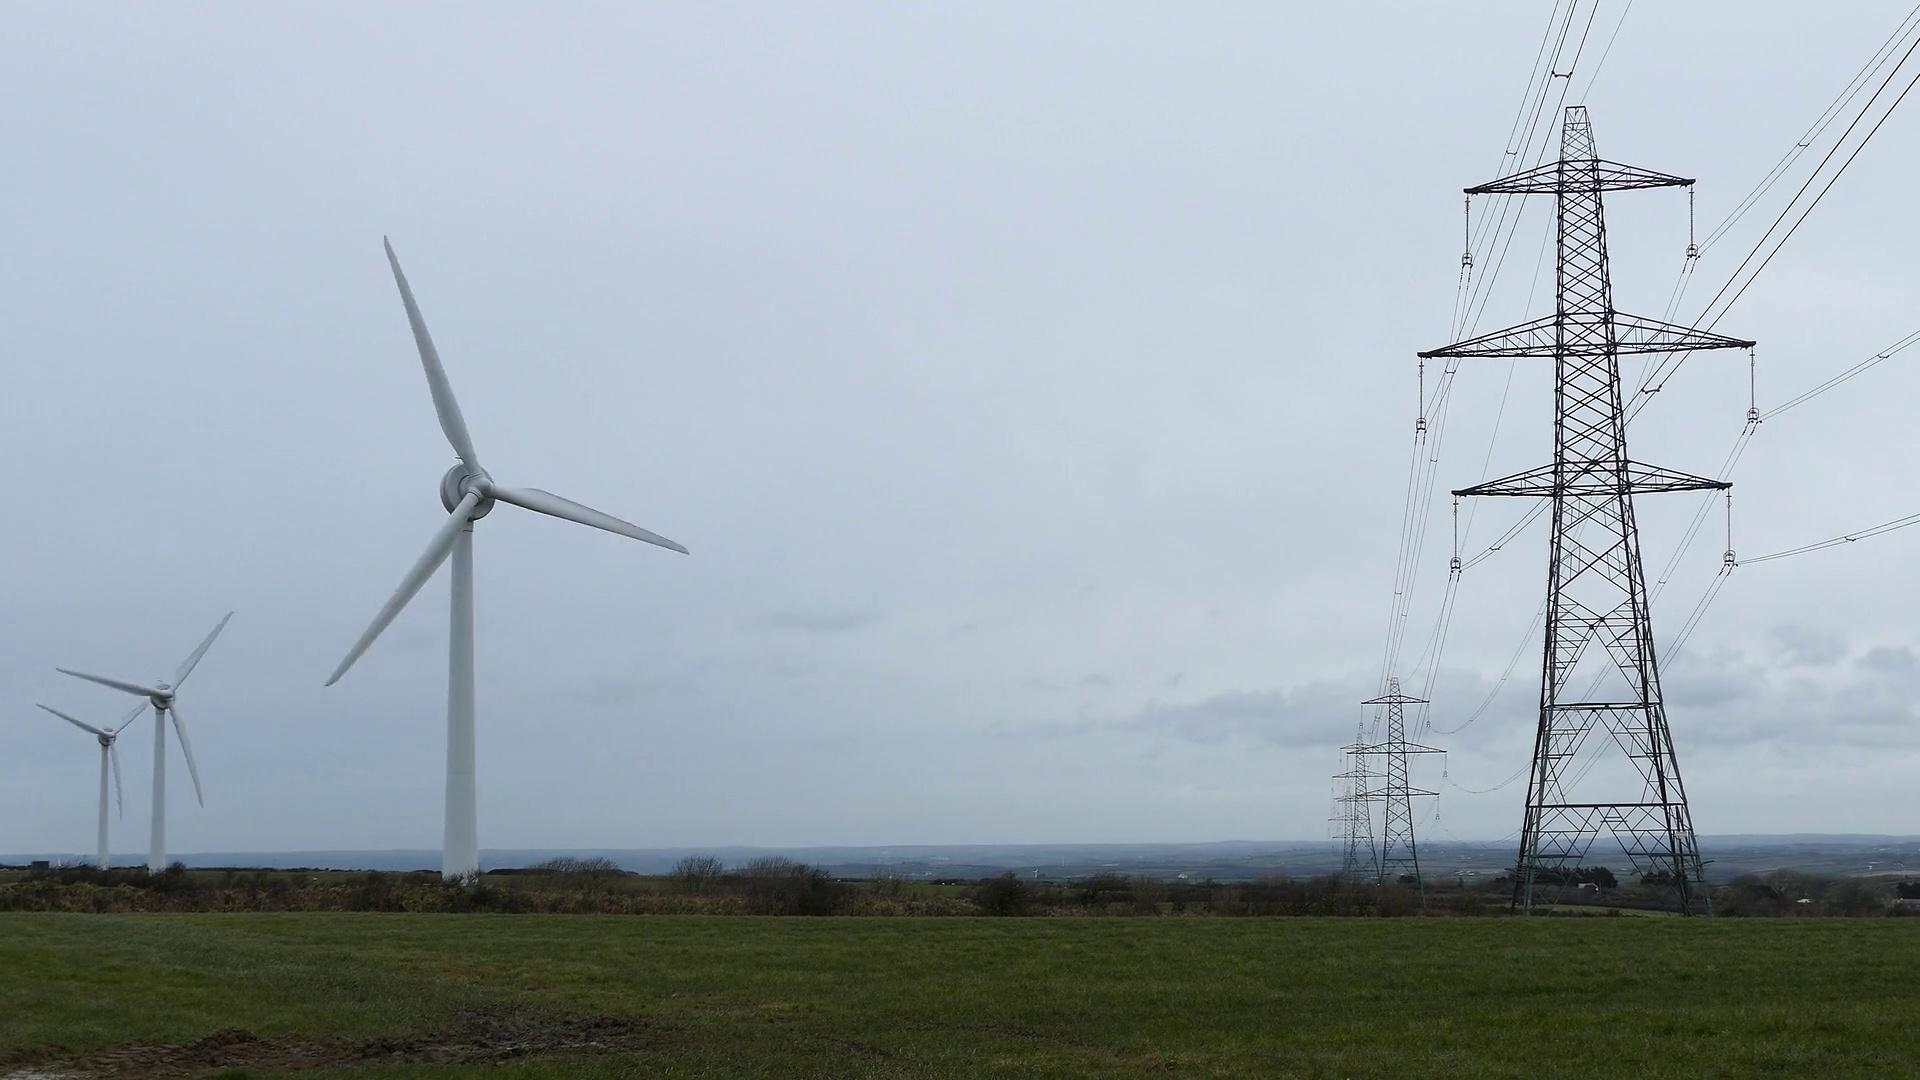cable tower: (1412, 104, 1747, 922), (1354, 669, 1451, 898), (1331, 748, 1389, 885), (1325, 787, 1362, 890)
turbine: (218, 175, 740, 949), (63, 579, 293, 918), (37, 633, 193, 887)
